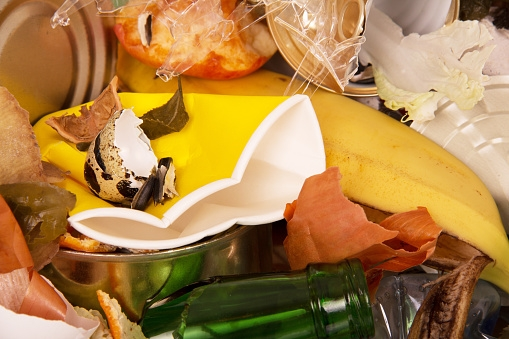glass: (135, 256, 387, 339), (369, 261, 501, 339)
kitchen_waste: (277, 160, 447, 281), (109, 1, 284, 76), (71, 110, 184, 212)
metal: (35, 223, 290, 320), (261, 1, 466, 94)
paper: (25, 79, 340, 260), (332, 1, 496, 126)
